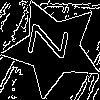Z: (28, 23, 79, 62)
